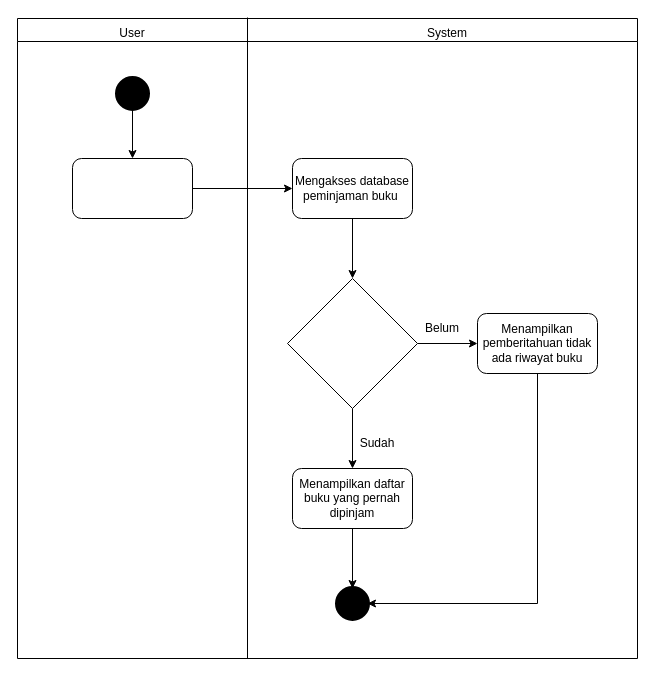
The diagram is 655 pixels wide and 677 high, and some of its shapes have lost their labels. Here are the shapes that lost their labels. From the top down, the centre of each, then its label:
At point (132, 188): "Pengguna memilih menu riwayat buku pada menu utama".
At point (352, 343): "Aoakah pengguna sebelumnya sudah pernah meminjam buku?".
